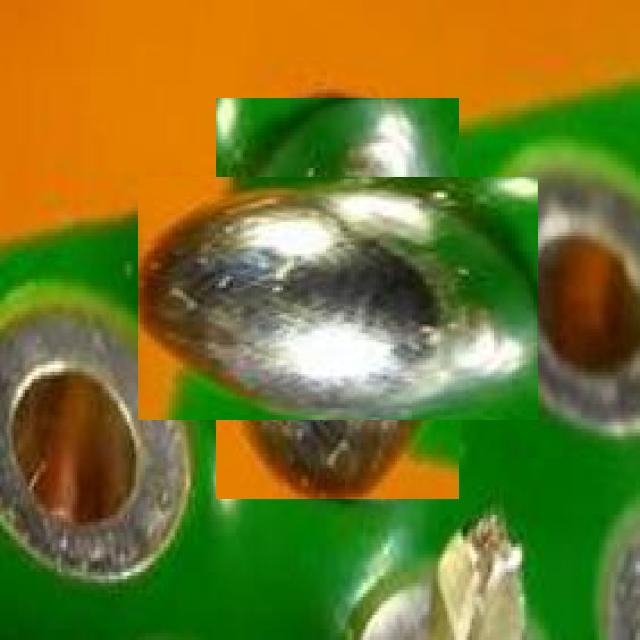redundant: (137, 177, 538, 420)
